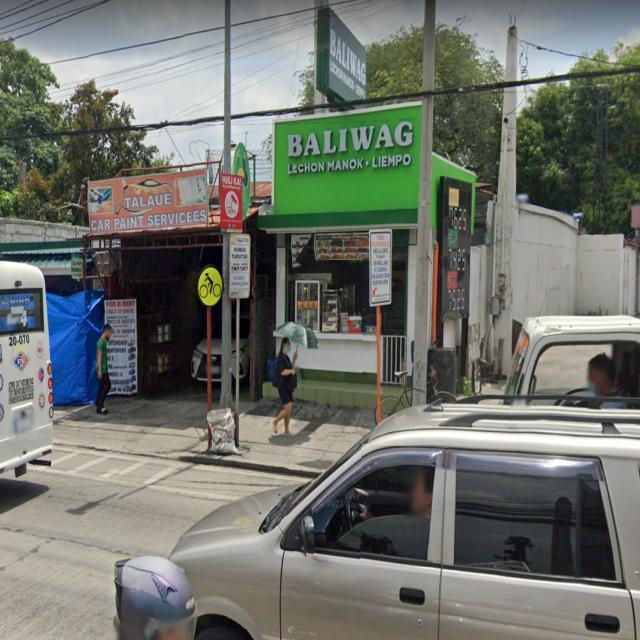bike lane: (195, 265, 227, 309)
